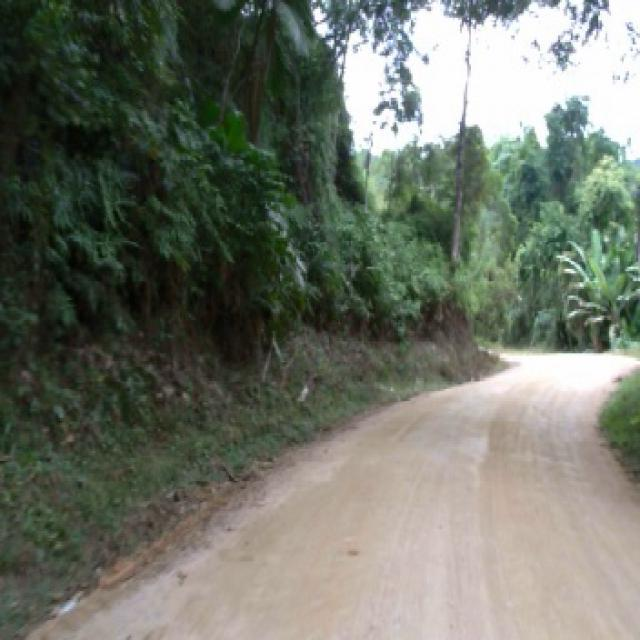Poth-hole: (64, 460, 276, 611)
